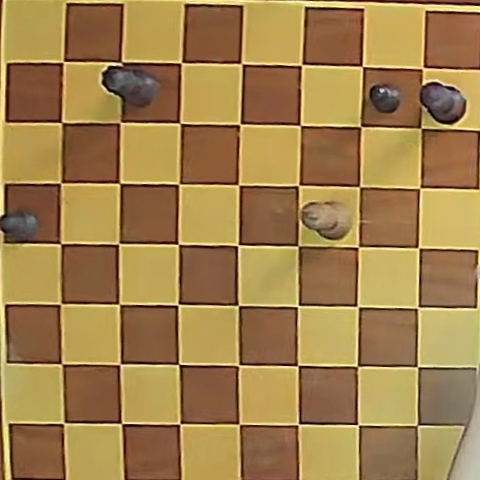black-king: (420, 82, 466, 123)
black-pawn: (0, 210, 39, 242), (370, 84, 402, 113)
black-queen: (103, 66, 161, 109)
white-king: (302, 201, 353, 240)
